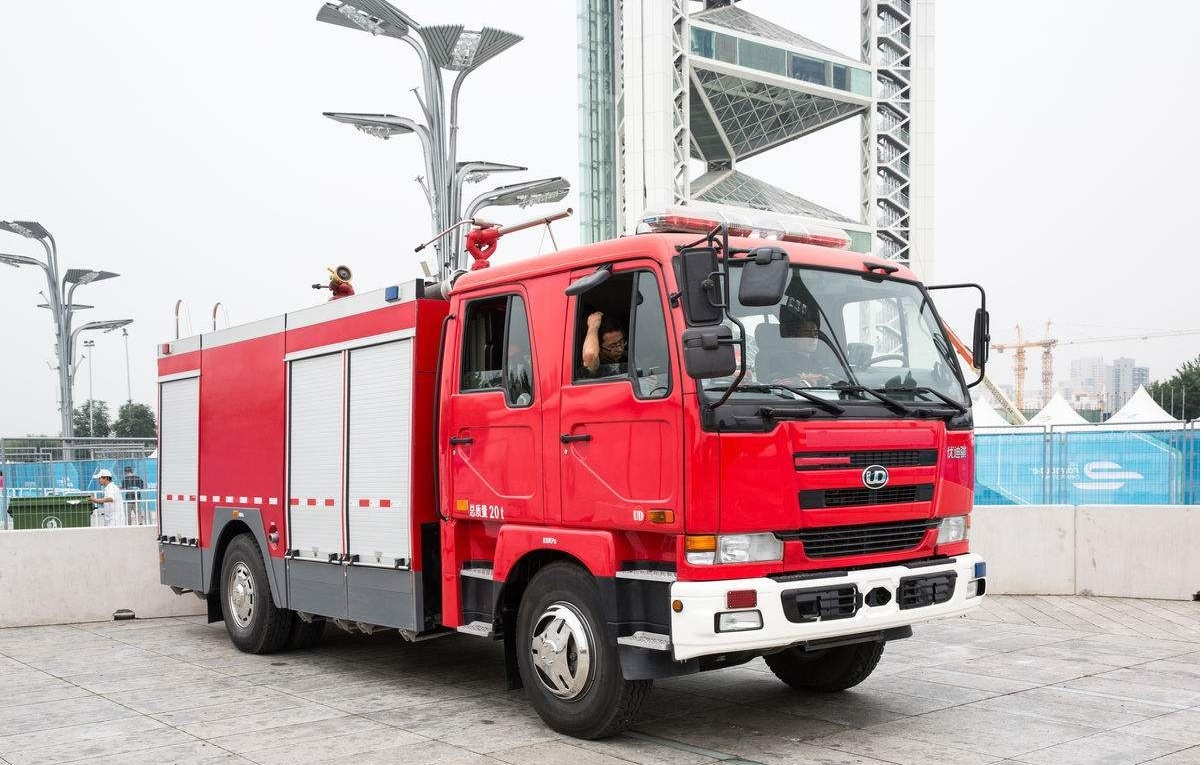fire engine: (114, 239, 1010, 708)
